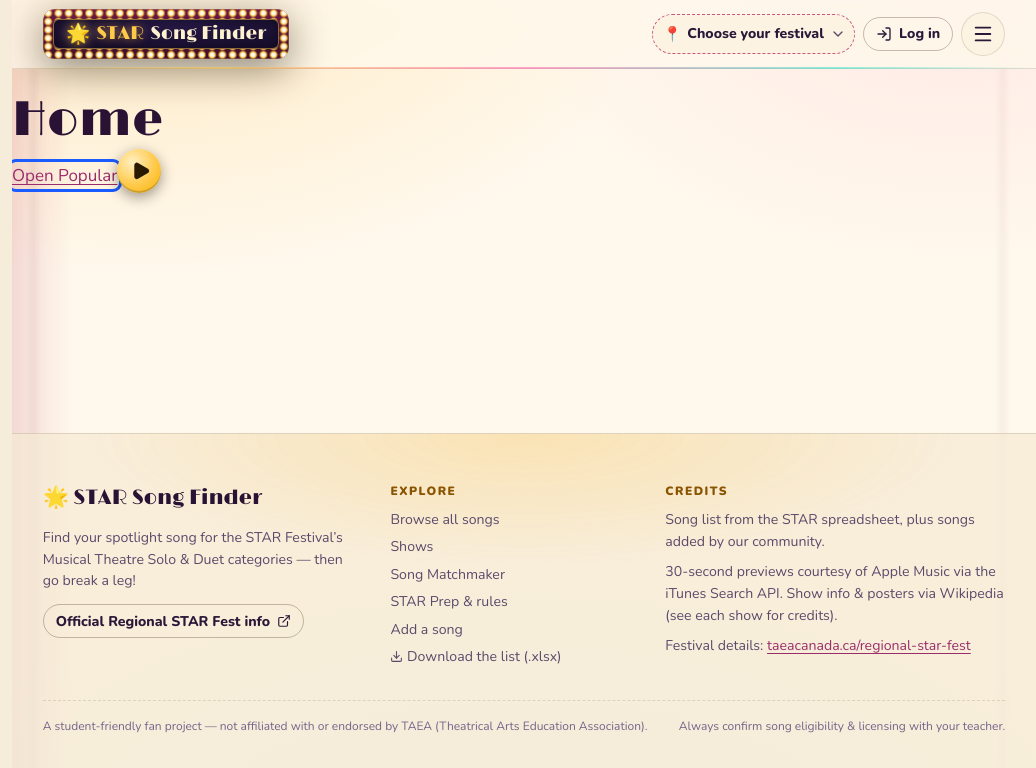
Test case: Layout route changes › does not leave focus on <body> when the followed link unmounts
This screenshot has width=1036, height=768.
Click the link with test id "card-link". click: (65, 176)
box: [12, 164, 118, 187]
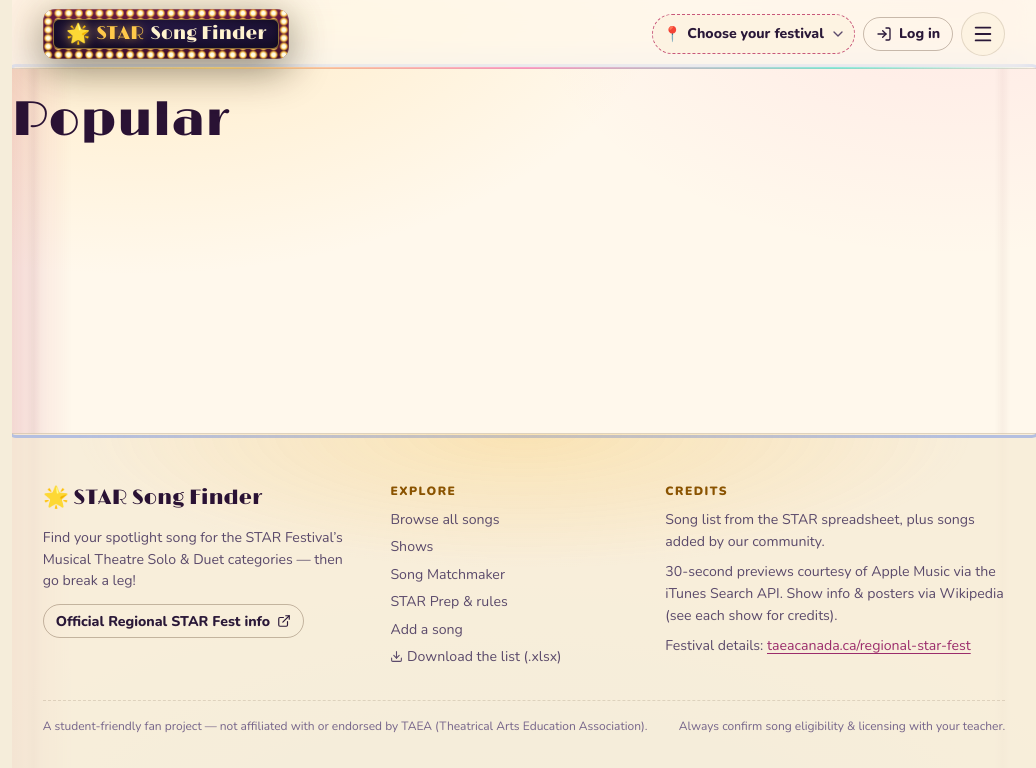
Result: the heading "Popular" is shown at [12, 91, 229, 150]
